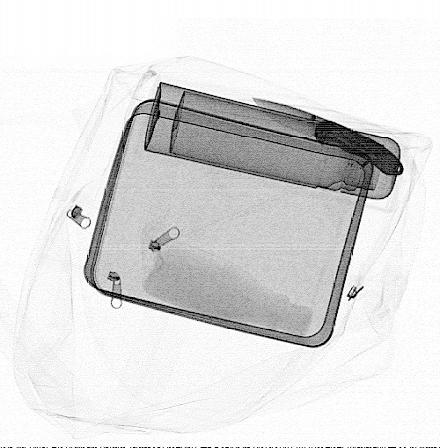Knife: (249, 96, 405, 177)
